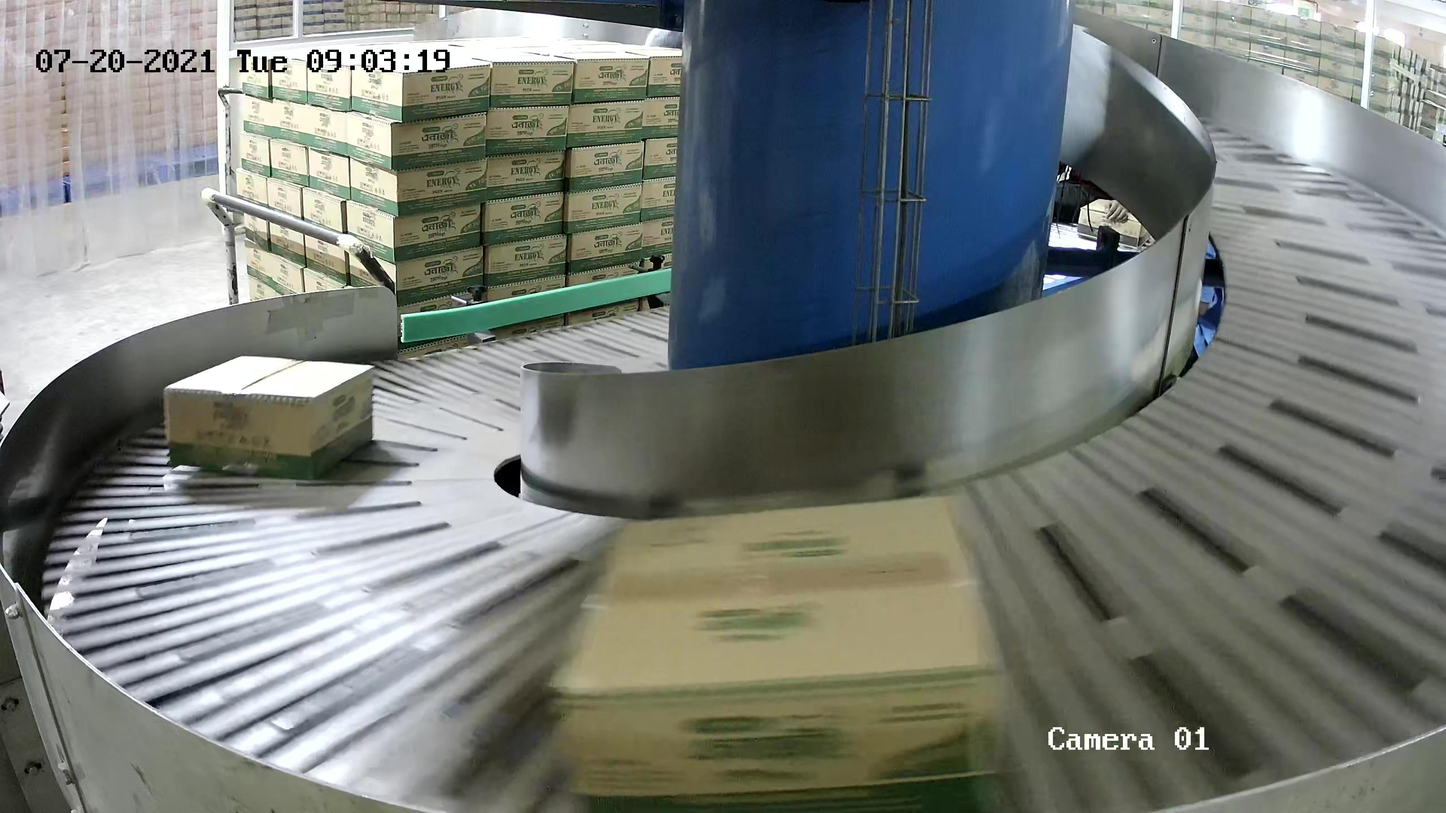Box: (547, 489, 1003, 813), (163, 353, 377, 483)
